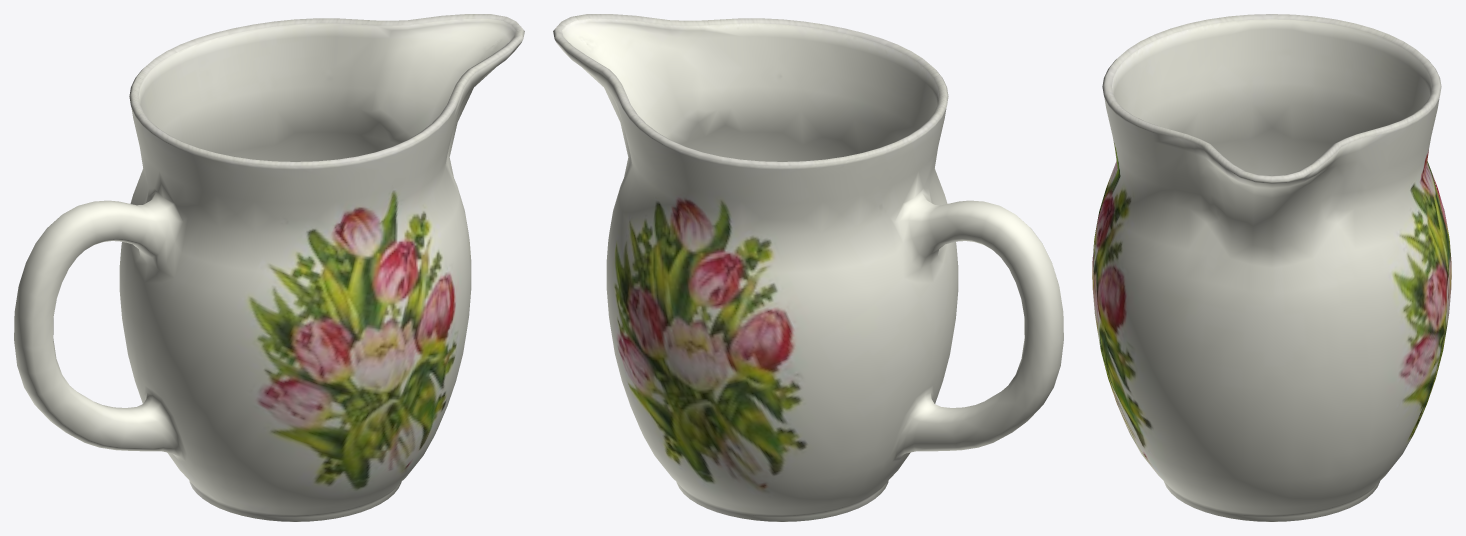
The model's file is jug.glb.
3 views of the same model, side by side, from view 1: azimuth 30°, elevation 25°; view 2: azimuth 150°, elevation 25°; view 3: azimuth 270°, elevation 25° (orthographic). The views are drawn at different scales.
Visible parts, largest first — view 1: jug_01; view 2: jug_01; view 3: jug_01.
Part boxes in pixels (x1,y1,x2,y2): jug_01: [14, 14, 524, 521]; jug_01: [553, 14, 1063, 521]; jug_01: [1092, 14, 1451, 521].
Size of the model in its own units: 0.2753 by 0.2113 by 0.1675.
1 material, 1 textured.
